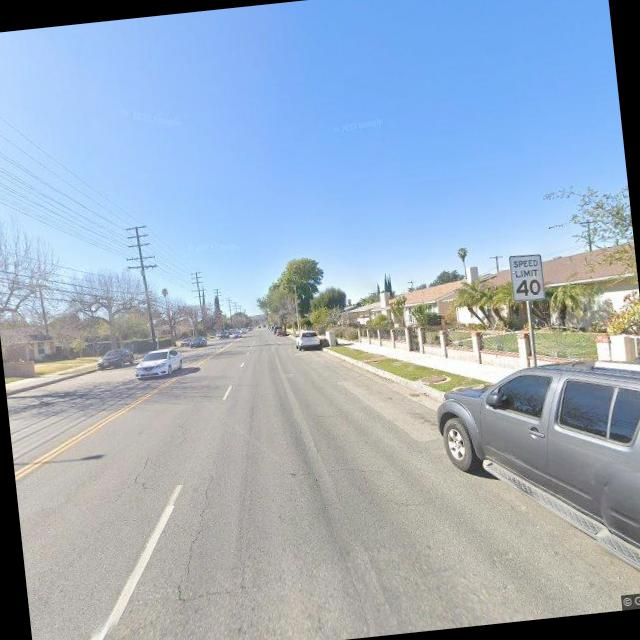pothole: (161, 458, 226, 599), (110, 446, 150, 506)
